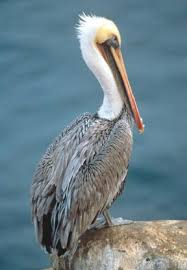pelican: (31, 18, 145, 253)
